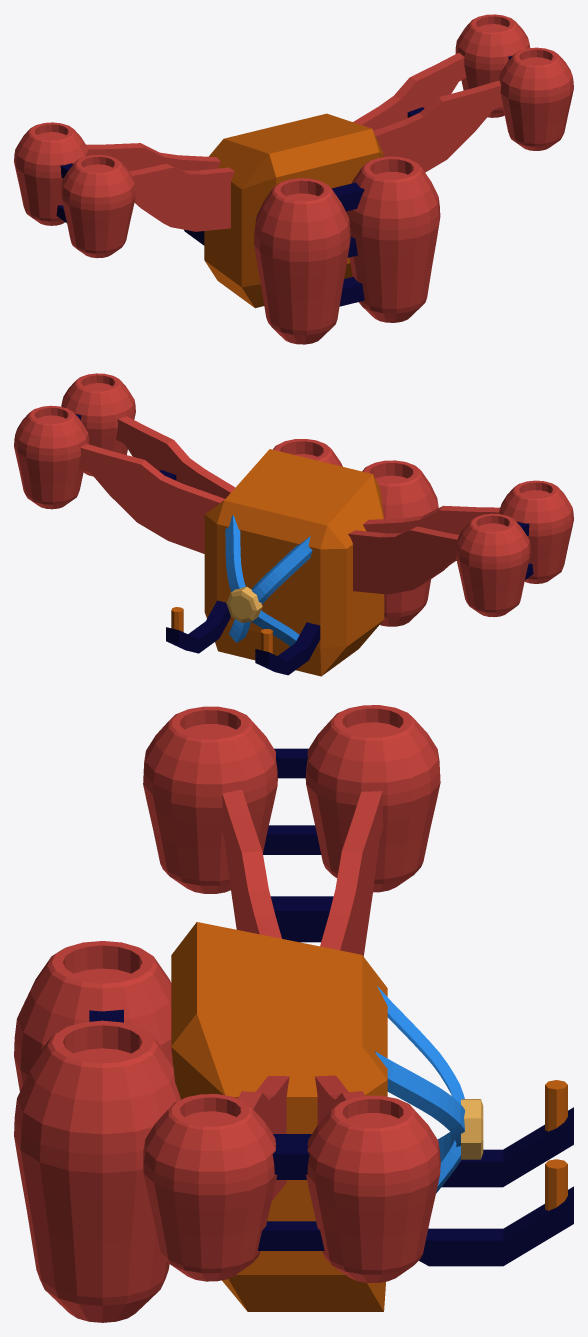
File: jetpack.fbx
3 renders of one model, top to bottom at view 1: azimuth 30°, elevation 25°; view 2: azimuth 150°, elevation 25°; view 3: azimuth 270°, elevation 25°, orthographic. The views are drawn at different scales.
Visible parts, largest first — view 1: jetpack; view 2: jetpack; view 3: jetpack.
Part boxes in pixels (x1,y1,x2,y2): jetpack: (14, 14, 573, 344); jetpack: (14, 373, 573, 676); jetpack: (14, 705, 573, 1322).
Size of the model in its own units: 1131 by 414 by 597.
